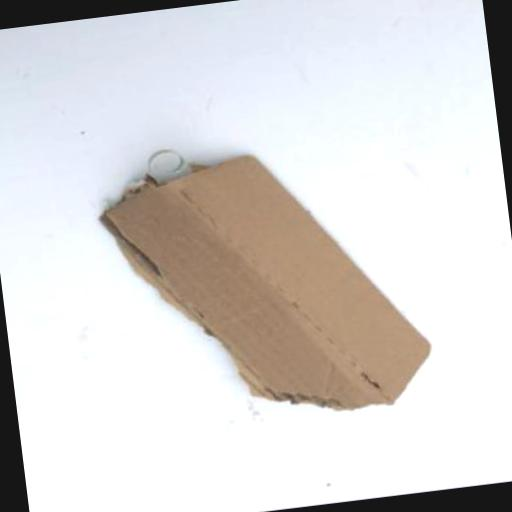cardboard: (96, 138, 440, 440)
